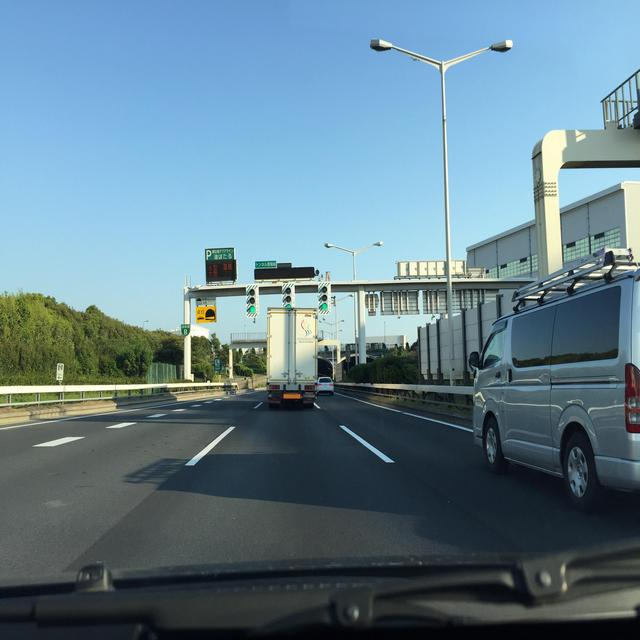Barrier: (0, 381, 238, 407)
Car: (468, 247, 639, 513), (317, 377, 333, 395)
Vegetation: (339, 341, 418, 384), (232, 347, 266, 376)
